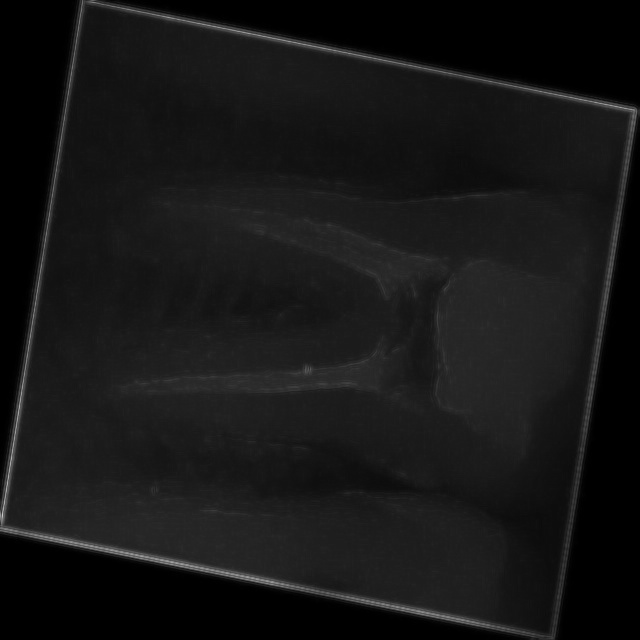Class 1- complete endodontic treatment: (31, 74, 610, 578)
